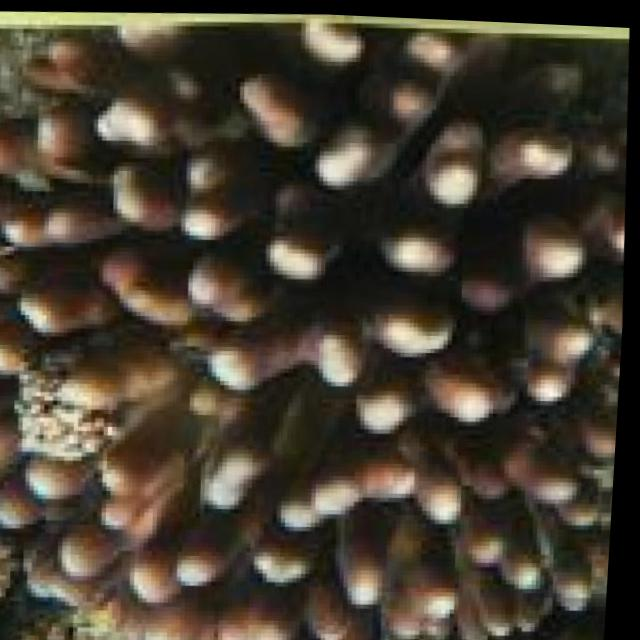Healthy Coral: (0, 34, 638, 640)
